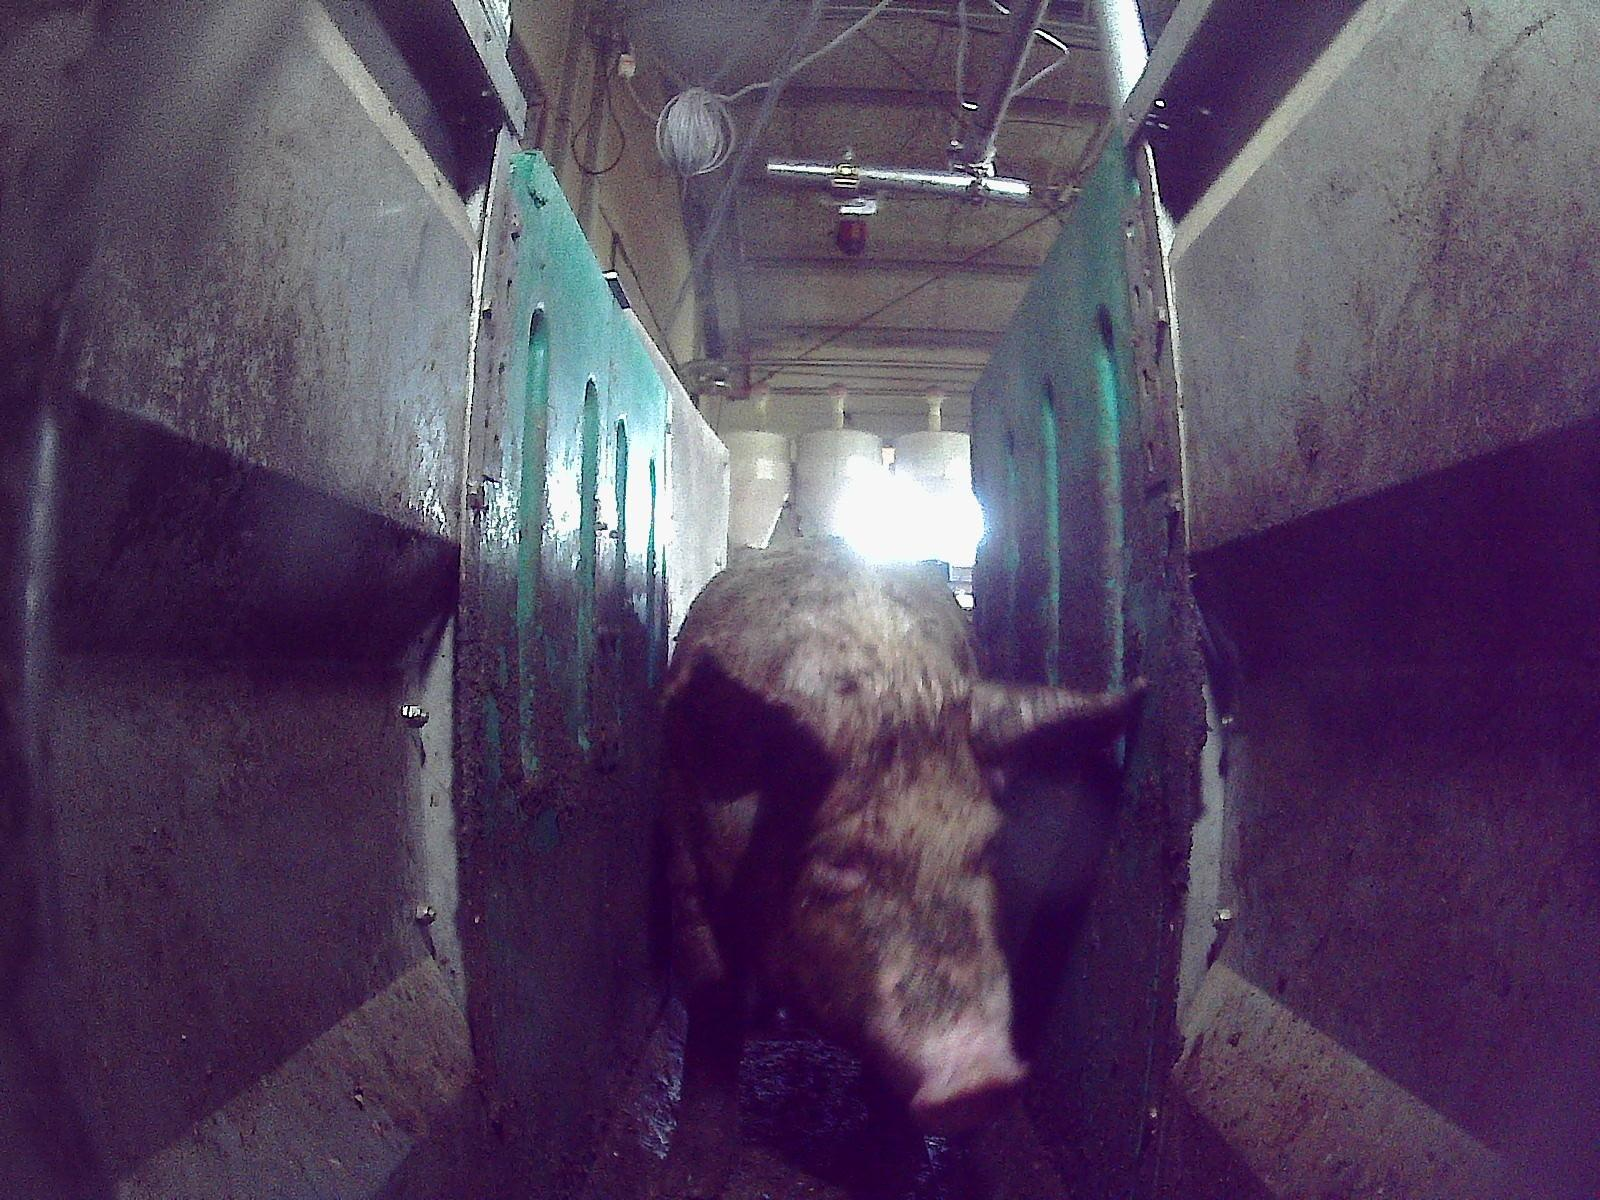Face: (754, 685, 1026, 1133)
